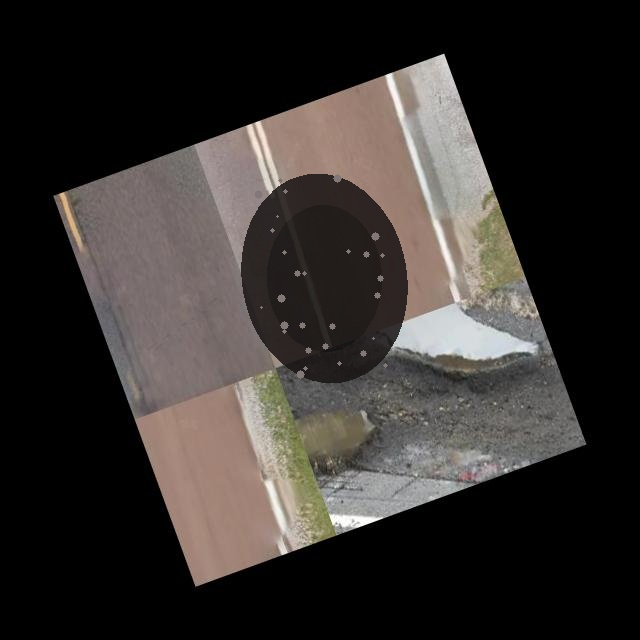pothole: (237, 168, 411, 388)
